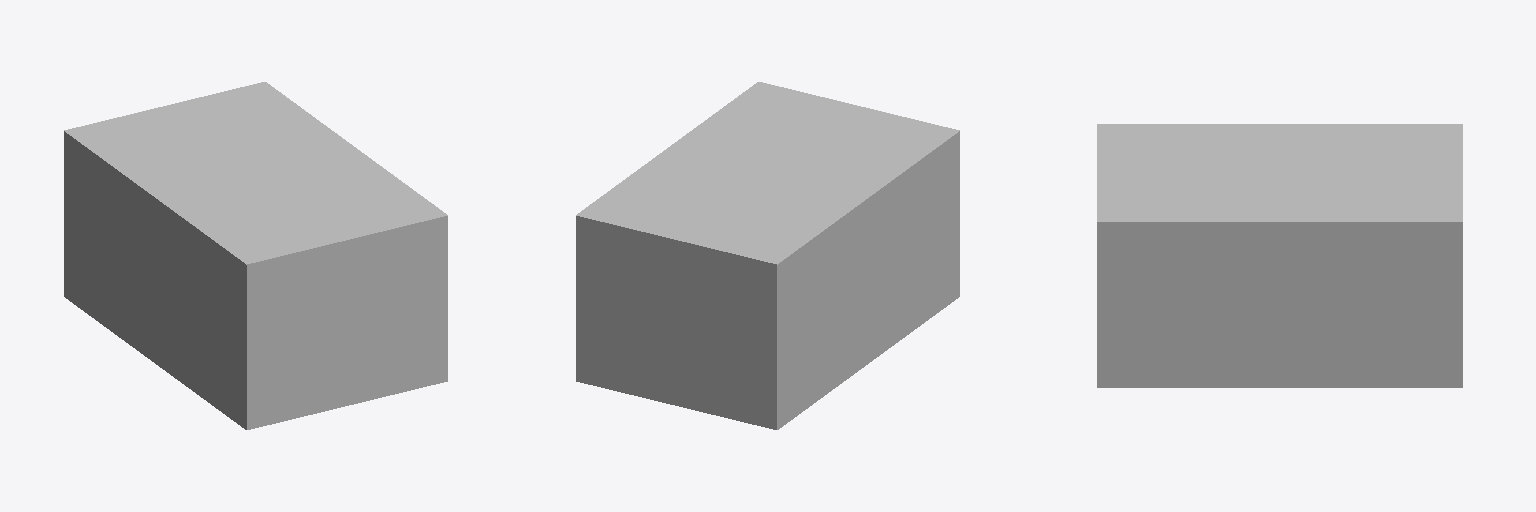
The model's file is zm_perk_machine_quickrevive.obj.
The picture shows the model from 3 angles: view 1: azimuth 30°, elevation 25°; view 2: azimuth 150°, elevation 25°; view 3: azimuth 270°, elevation 25°; orthographic projection.
Parts seen in each view (by area): view 1: co_culling; view 2: co_culling, c_convex_003; view 3: co_culling.
Boxes of the visible parts, x1,y1,x2,y2 form: co_culling: [64, 82, 447, 429]; co_culling: [576, 82, 959, 429]; c_convex_003: [604, 260, 748, 370]; co_culling: [1097, 124, 1462, 387].
Bounding box in the file's own units: 140 × 110 × 220.